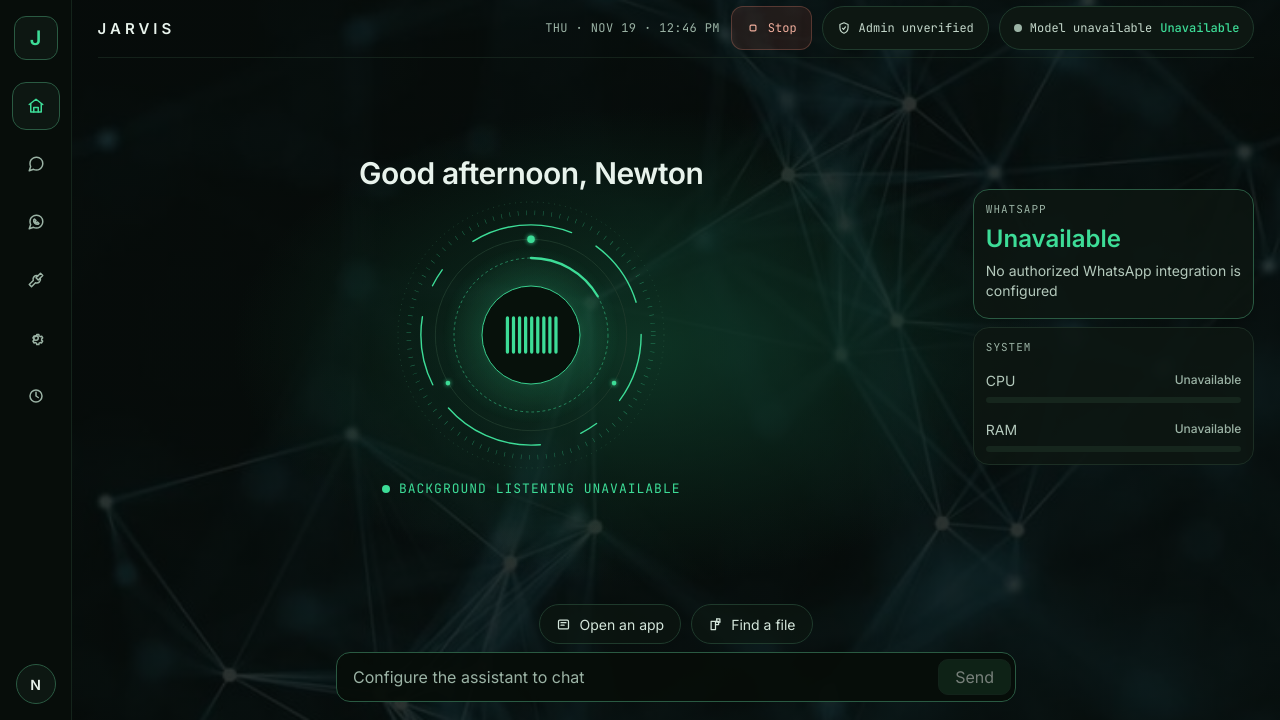
Scenario: JARVIS voice-first home › opens chat from the home menu and returns home from the chat screen
Click the button named "Chat" at (36, 164), box [12, 140, 60, 188]
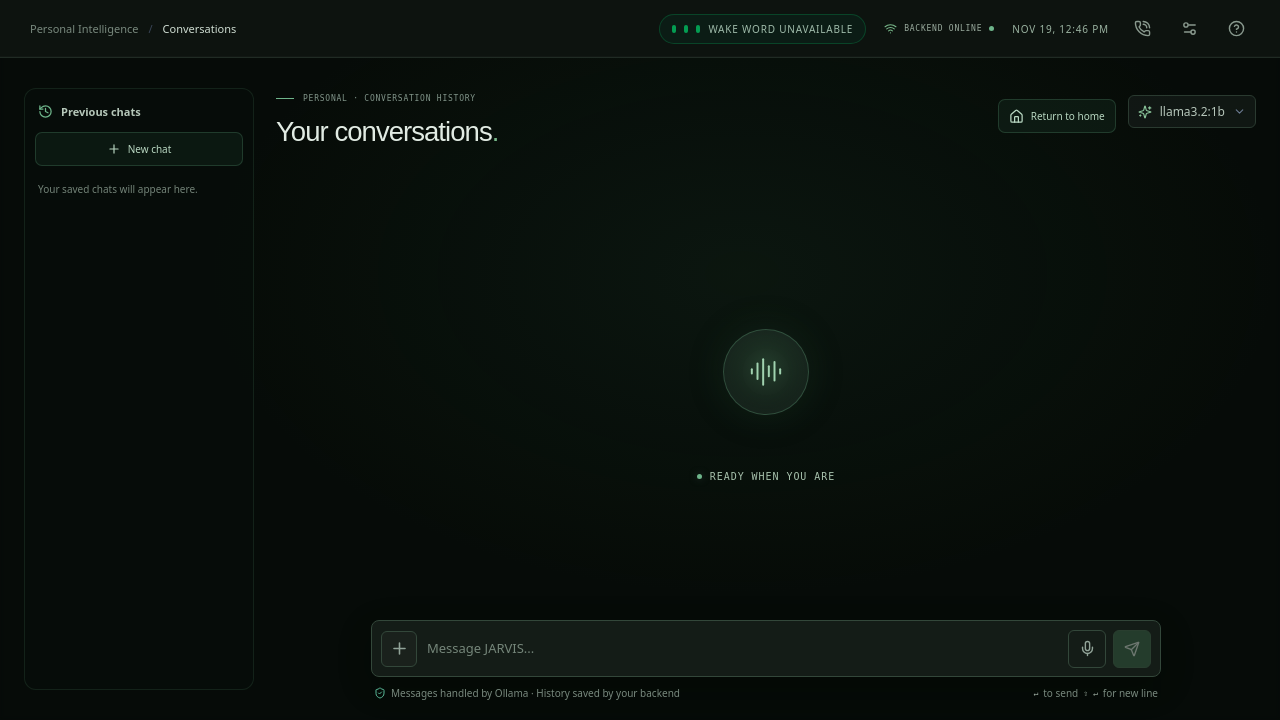
Expected: the heading named "Your conversations ." is shown, [276, 116, 498, 148]
Expected: the element named "Chat history" is shown, [24, 88, 254, 690]
Click the button "Return to home" at (1057, 116), box [998, 99, 1116, 133]
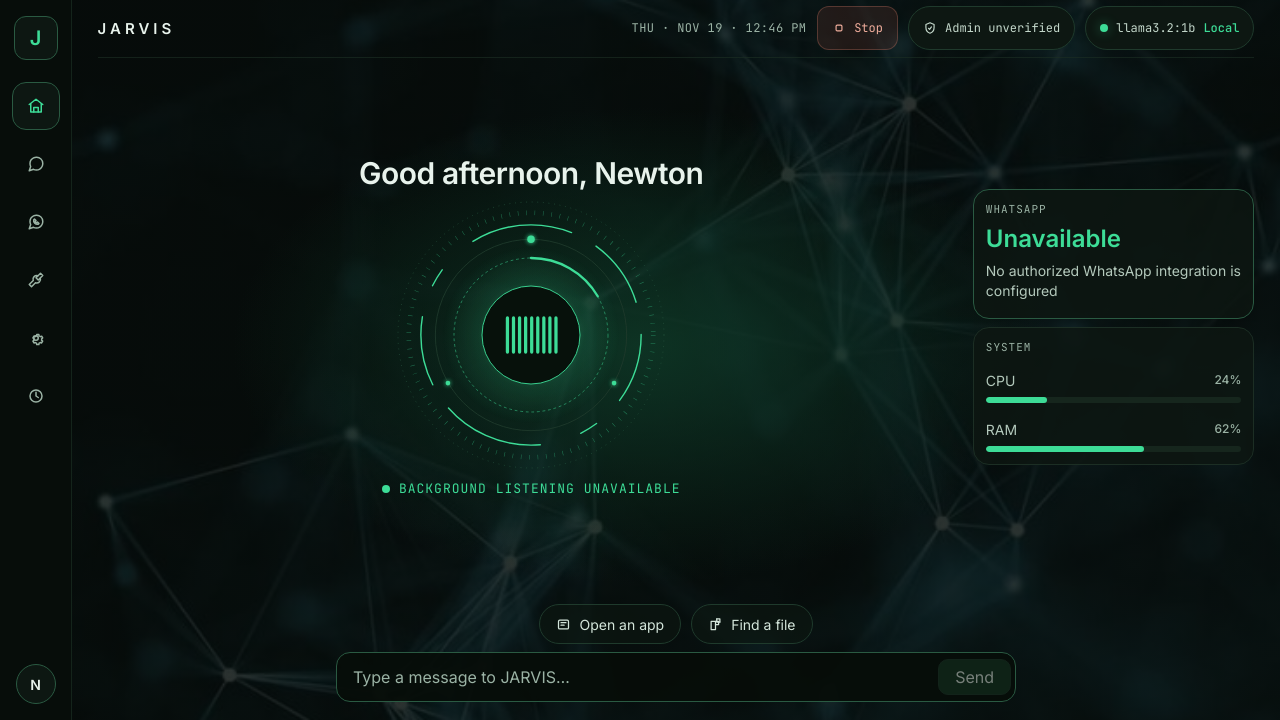
Expected: the heading "Good afternoon, Newton" is shown, [359, 155, 703, 191]
